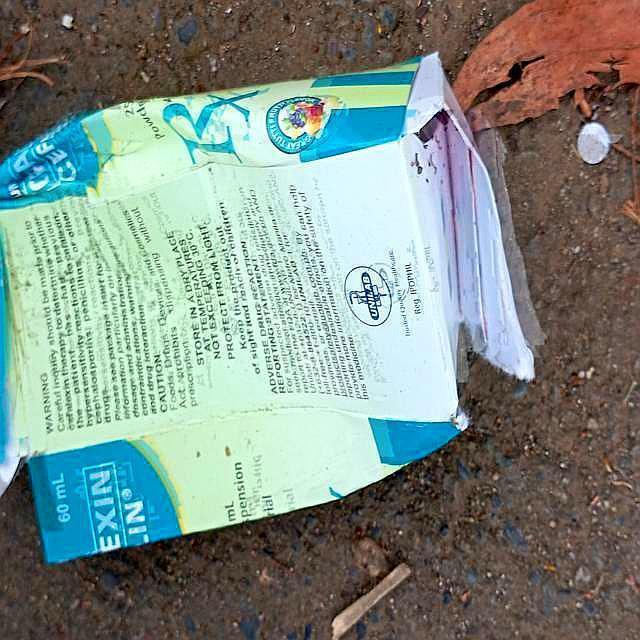Biodegradable: (1, 44, 598, 574)
